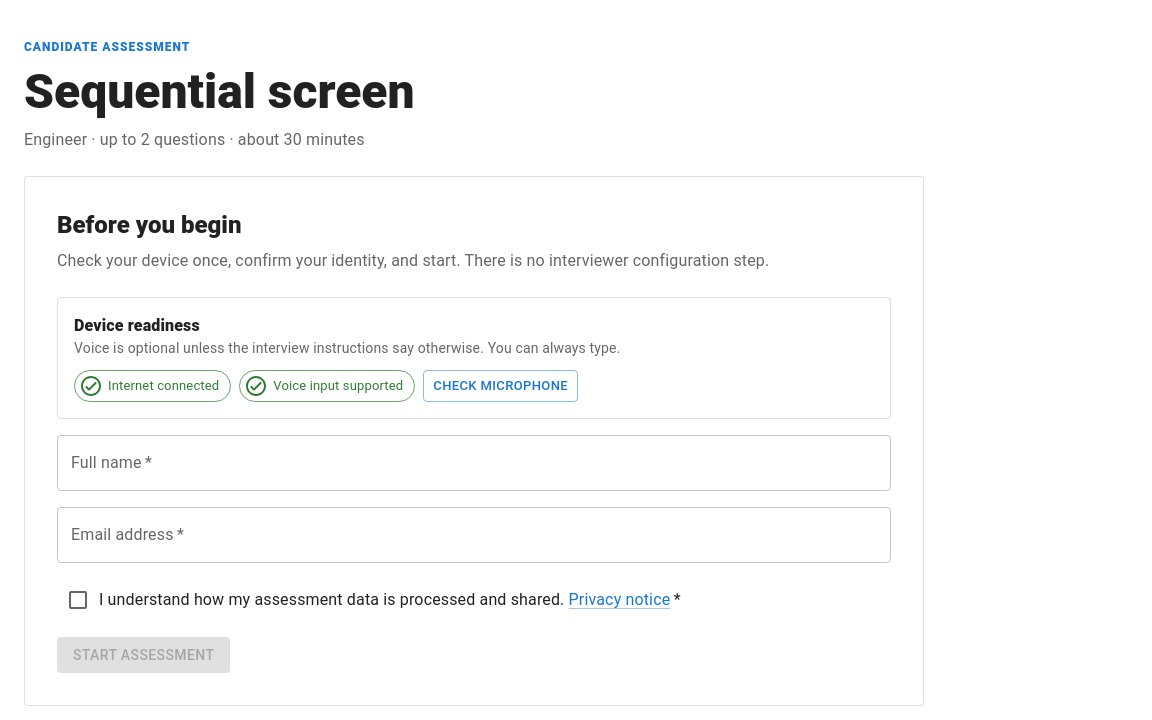
candidate assessment interview UX › keeps future live rounds locked until the current round completes
The image size is (1152, 720).
Step 1. Type "Candidate" into the field labelled "Full name *" → (474, 463), box [57, 435, 891, 491]
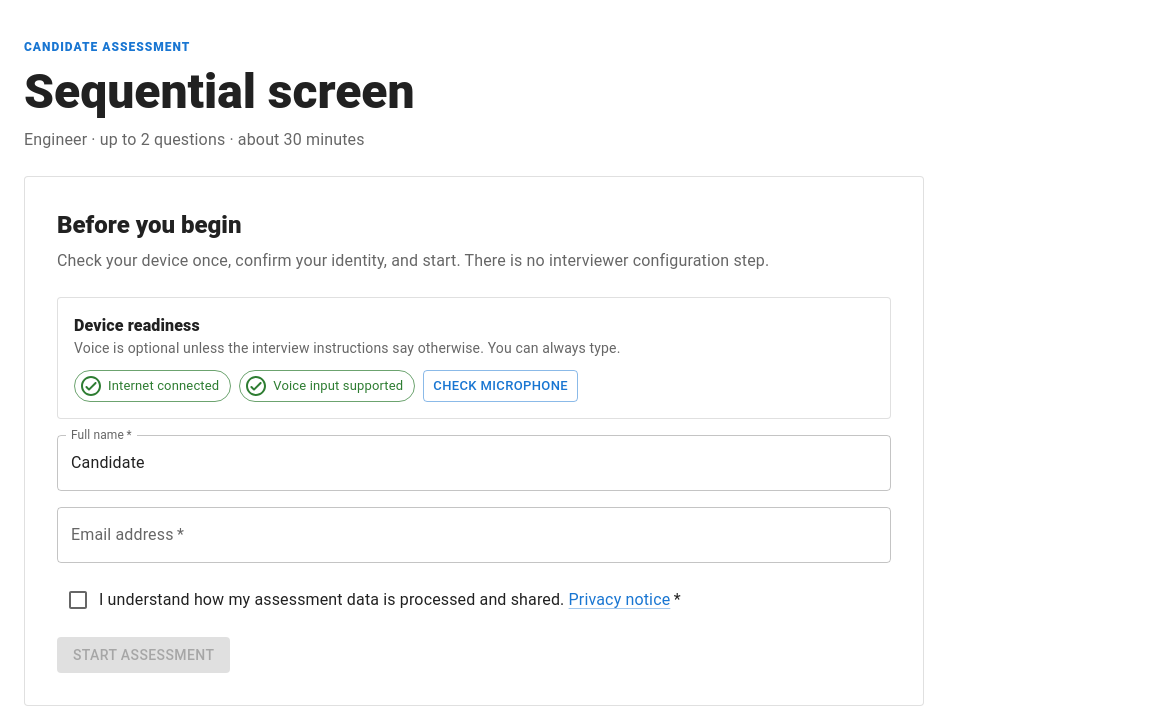
Step 2. Type "candidate@example.com" into the field labelled "Email address *" → (474, 535), box [57, 507, 891, 563]
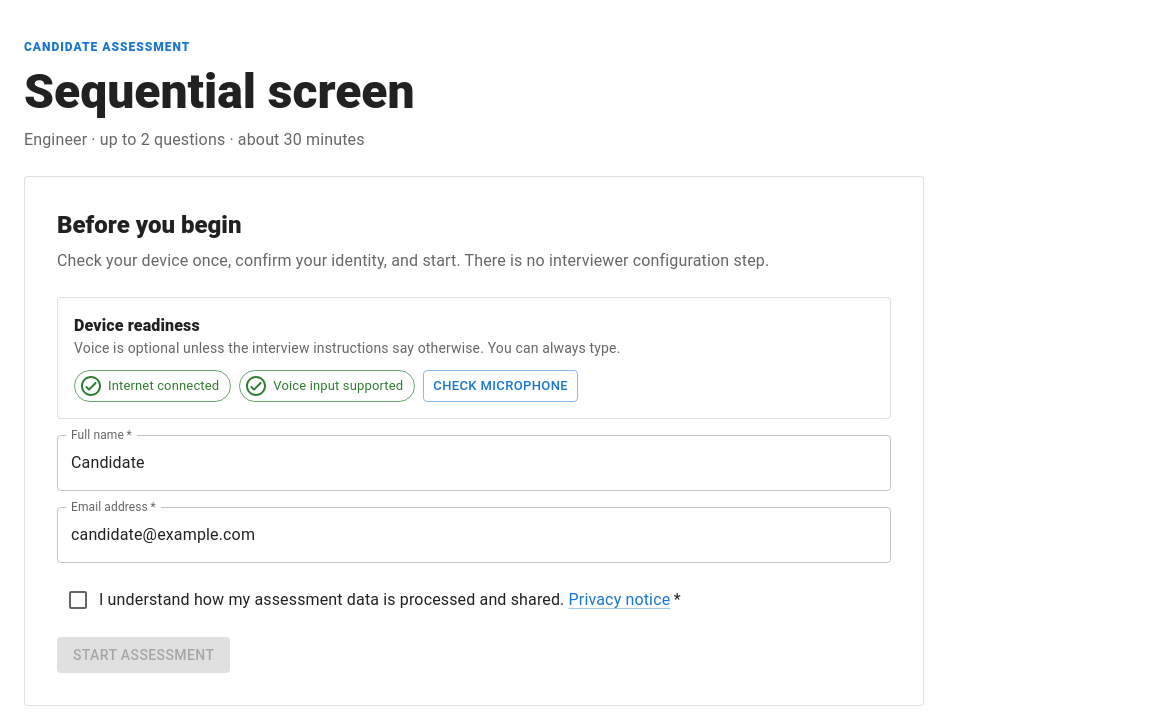
Step 3. Click the checkbox → (373, 600), box [66, 588, 681, 612]
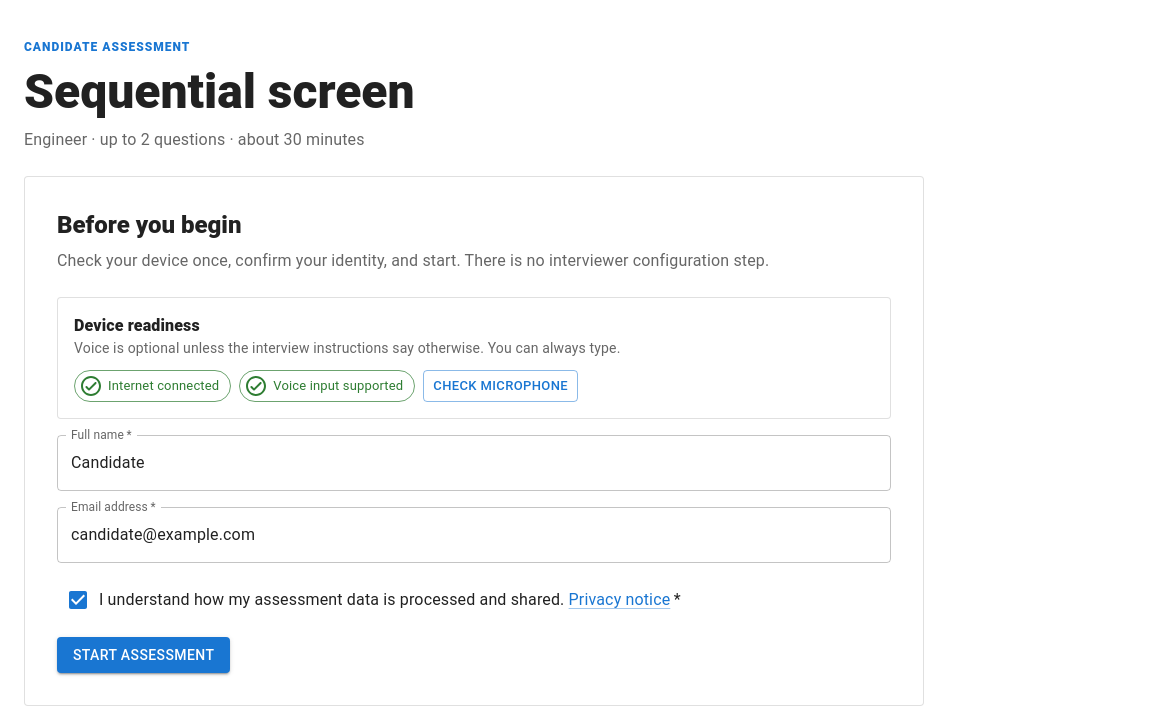
Step 4. Click the button "Start assessment" → (144, 655), box [57, 637, 230, 674]
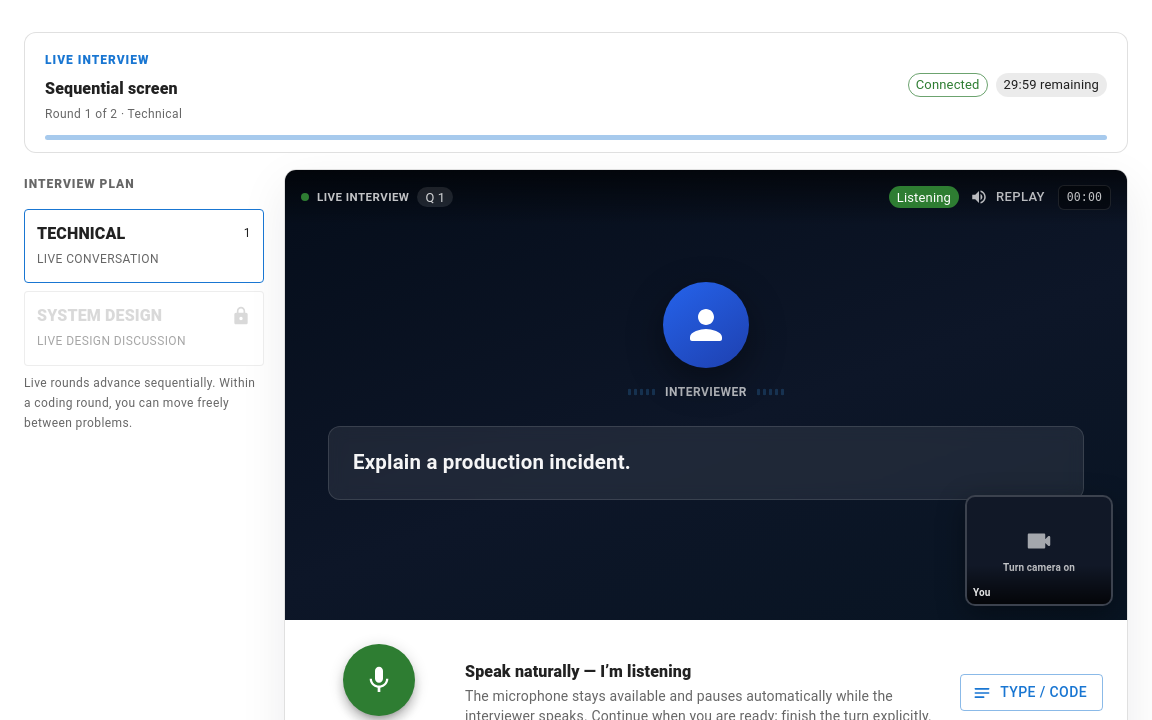
Check: the heading "Explain a production incident." is shown, box [353, 450, 631, 474]
Check: the button "System Design Live design discussion" is disabled, box [25, 292, 263, 365]
